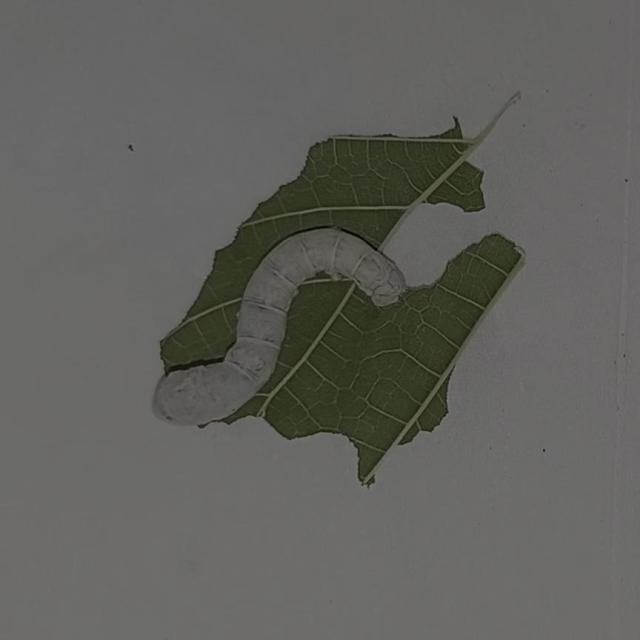Healthy: (123, 206, 430, 441)
